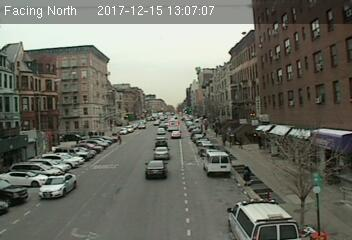car: (143, 160, 169, 178), (152, 147, 170, 159), (154, 137, 169, 148), (171, 131, 181, 137)
pedestrian: (241, 165, 252, 189)
police: (225, 198, 300, 240), (39, 172, 77, 200)
truck: (204, 151, 231, 176), (167, 119, 179, 132)
